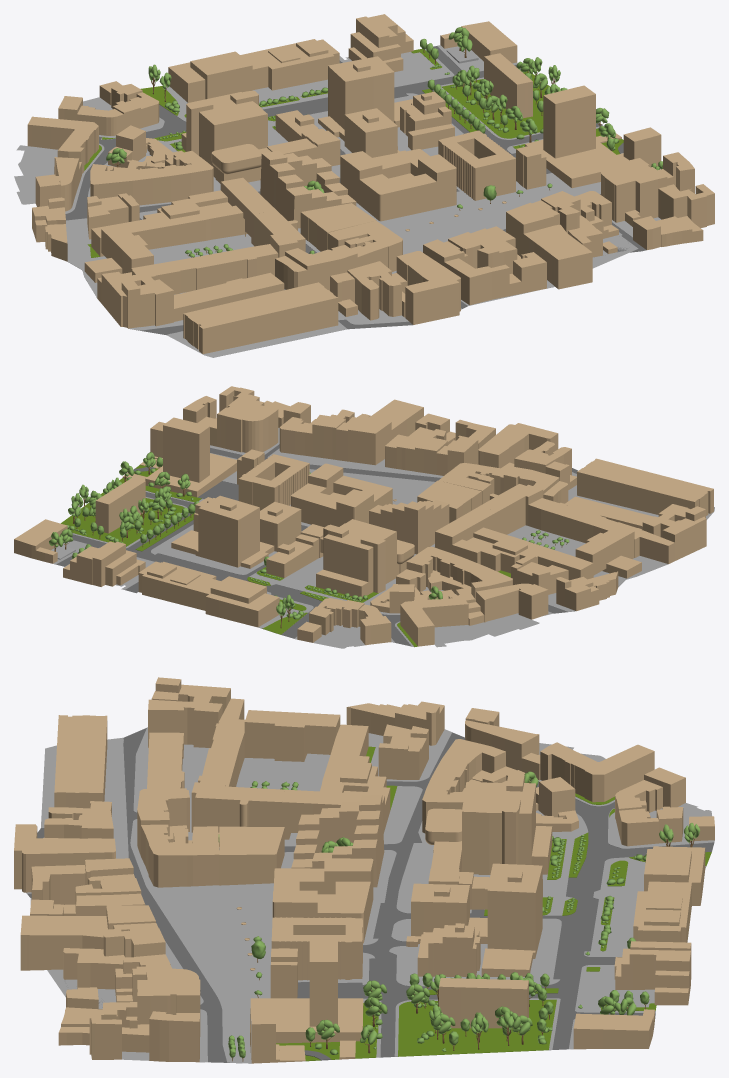
The model's file is RUR_Usti - revitalizace 2.obj.
3 renders of one model, top to bottom at view 1: azimuth 30°, elevation 25°; view 2: azimuth 150°, elevation 25°; view 3: azimuth 270°, elevation 25°, orthographic. The views are drawn at different scales.
Parts seen in each view (by area): view 1: Mesh630 Model; view 2: Mesh630 Model; view 3: Mesh630 Model.
Part boxes in pixels (box(x1,y1,x2,y2)): Mesh630 Model: box(14, 14, 714, 357); Mesh630 Model: box(14, 386, 714, 648); Mesh630 Model: box(14, 677, 714, 1063).
Bounding box in the file's own units: 416 × 49.38 × 369.
